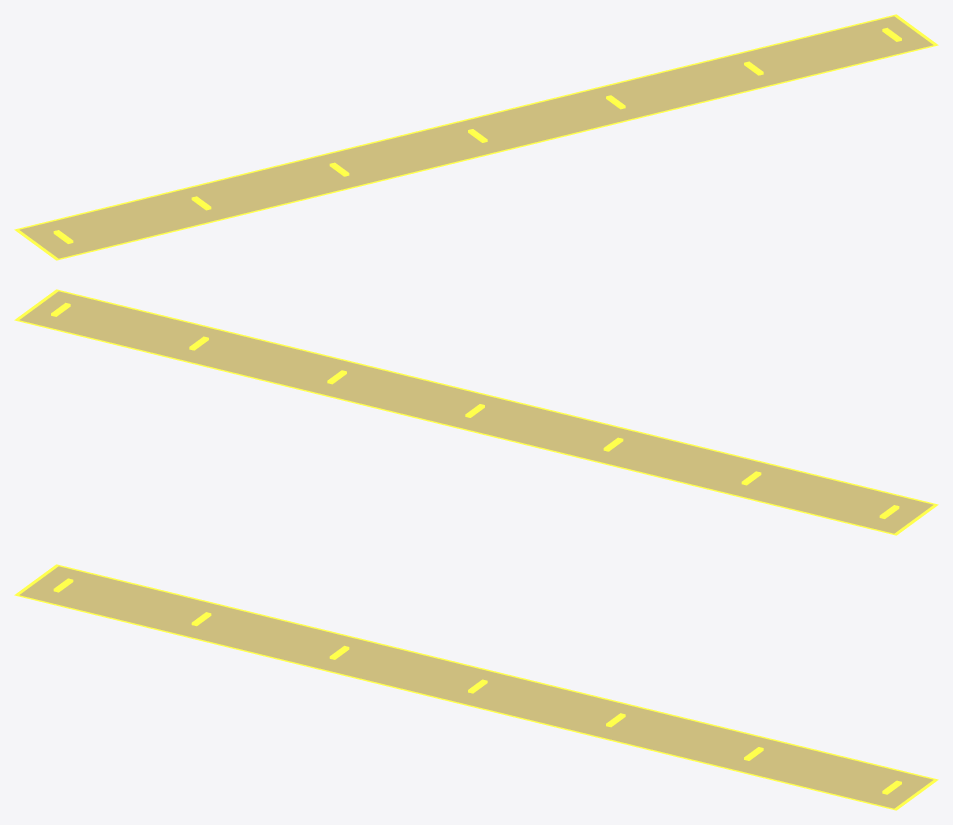
Rendered from START_NEW.fbx.
3 views of the same model, one above another, from view 1: azimuth 30°, elevation 25°; view 2: azimuth 150°, elevation 25°; view 3: azimuth 330°, elevation 25° (orthographic).
Visible parts, largest first — view 1: start, start.lights; view 2: start, start.lights; view 3: start, start.lights.
Boxes of the visible parts, x1,y1,x2,y2 form: start: (14,14,938,260); start.lights: (53,27,901,243); start: (14,289,938,535); start.lights: (51,302,899,518); start: (14,564,938,810); start.lights: (53,578,901,794).
Size of the model in its own units: 180 by 0.5378 by 15.
